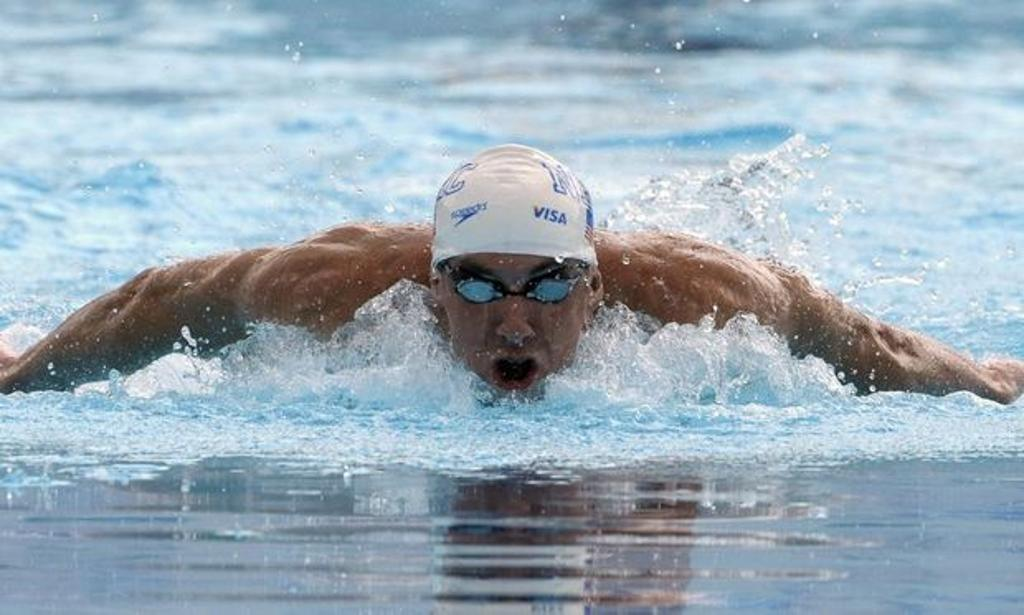face: (448, 242, 588, 402)
